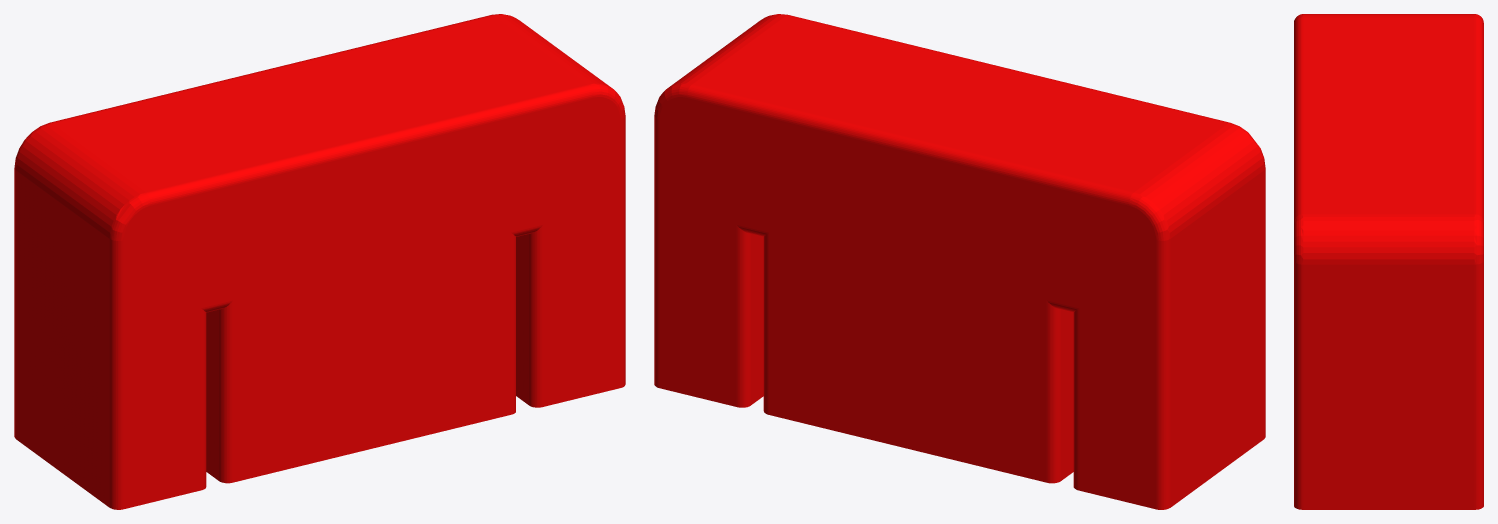
Rendered from Body.obj.
3 views of the same model, side by side, from view 1: azimuth 30°, elevation 25°; view 2: azimuth 150°, elevation 25°; view 3: azimuth 270°, elevation 25° (orthographic). The views are drawn at different scales.
Bounding box in the file's own units: 1.42 × 0.806 × 0.496.
